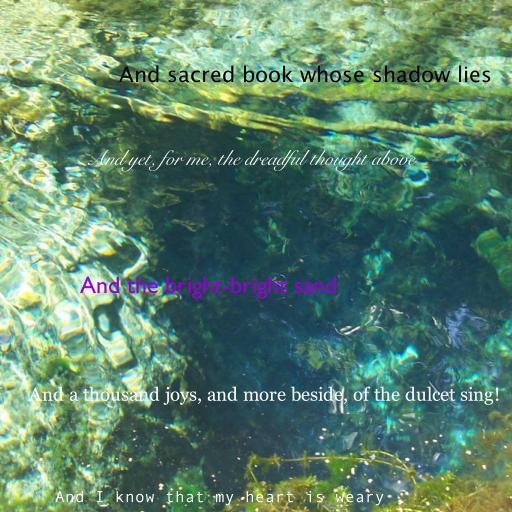Andale Mono: (55, 490, 385, 506)
Georgia: (28, 386, 500, 405)
Gill Sans: (79, 276, 337, 299)
Lucida Grande: (118, 65, 492, 83)
Snell Roundhand: (85, 149, 415, 172)
